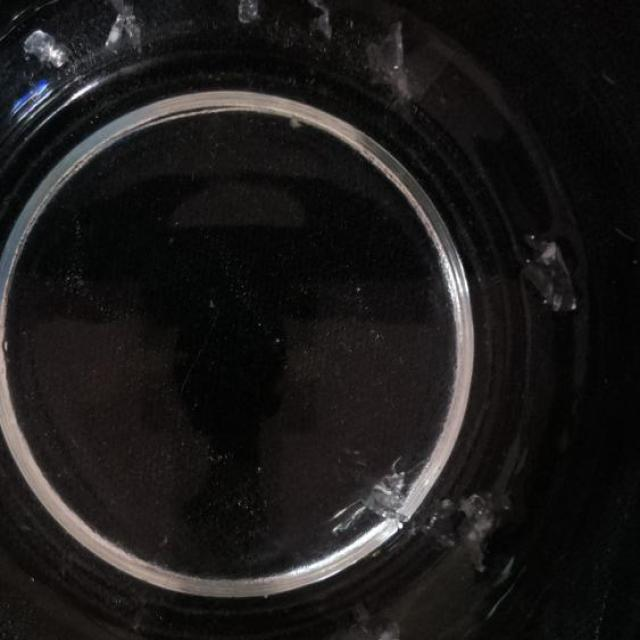fiber: (426, 466, 518, 583), (321, 449, 418, 558), (358, 14, 430, 110), (514, 226, 580, 316), (332, 599, 416, 639), (295, 0, 342, 67), (93, 0, 150, 52), (23, 29, 75, 70), (215, 0, 273, 32)
